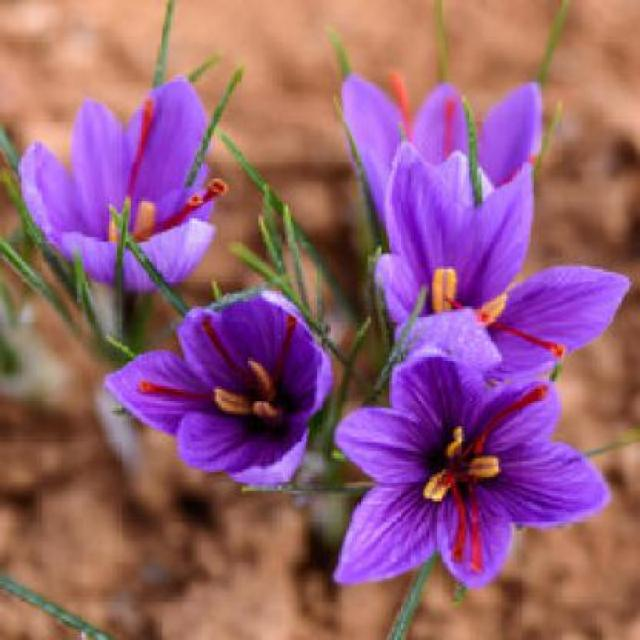Flower: (332, 347, 610, 587), (376, 150, 631, 376), (102, 294, 330, 495), (16, 81, 223, 292), (335, 73, 546, 228)
stigma: (446, 298, 565, 359), (471, 382, 553, 458), (143, 179, 227, 243), (198, 311, 257, 395), (120, 96, 163, 208), (138, 192, 204, 241), (270, 311, 302, 392), (382, 74, 418, 144), (444, 469, 468, 567), (134, 381, 214, 404), (469, 477, 486, 575), (439, 96, 460, 159)
